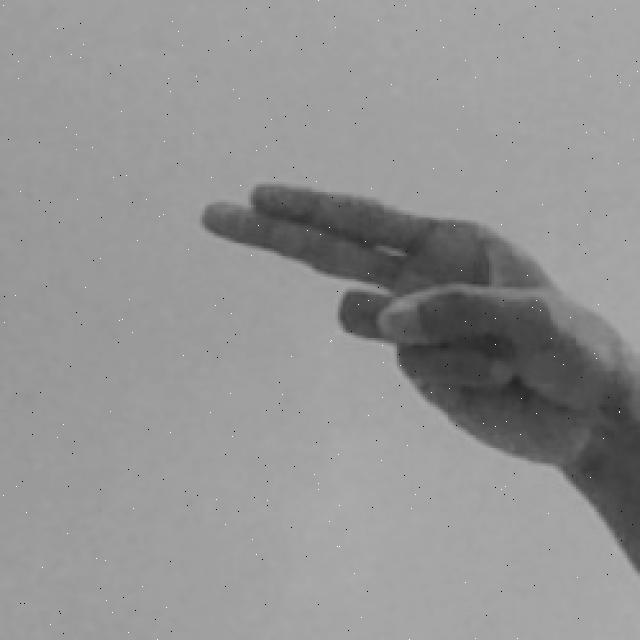H: (196, 172, 640, 578)
